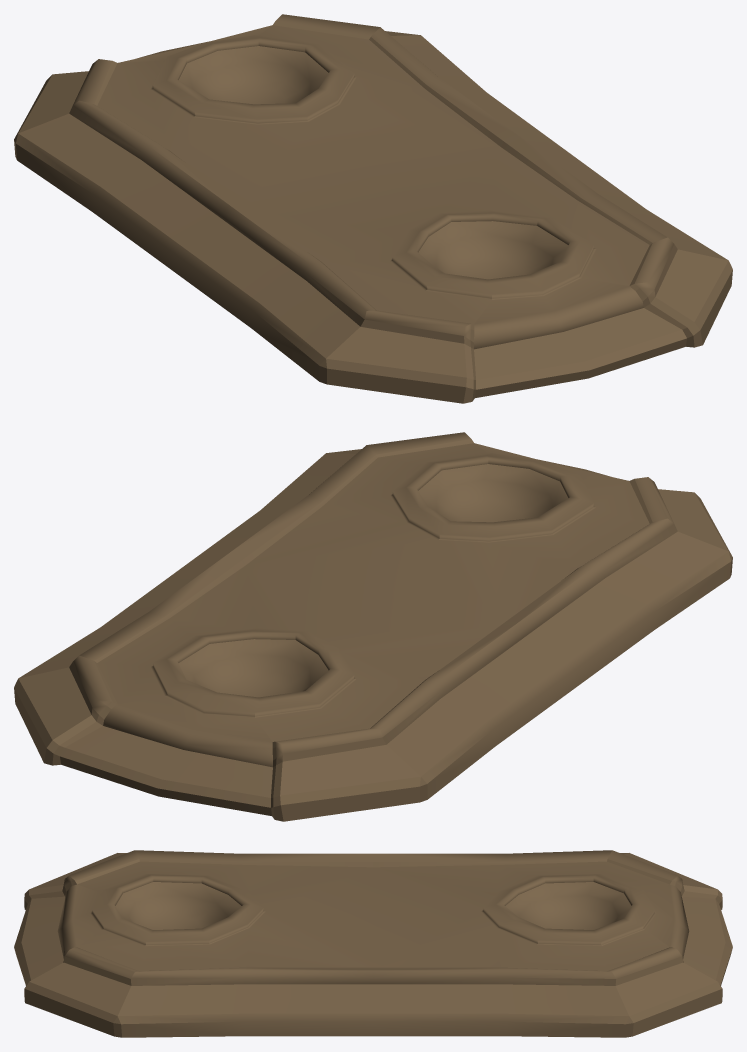
Rendered from Checkpoint_Respawn_Plate_Mesh_01.fbx.
3 renders of one model, top to bottom at view 1: azimuth 30°, elevation 25°; view 2: azimuth 150°, elevation 25°; view 3: azimuth 270°, elevation 25°, orthographic. The views are drawn at different scales.
Visible parts, largest first — view 1: polySurface339; view 2: polySurface339; view 3: polySurface339.
Part boxes in pixels (<box>): polySurface339: <box>14,14,732,403</box>; polySurface339: <box>14,432,732,821</box>; polySurface339: <box>14,850,732,1037</box>.
Size of the model in its own units: 1579 by 223 by 2874.
